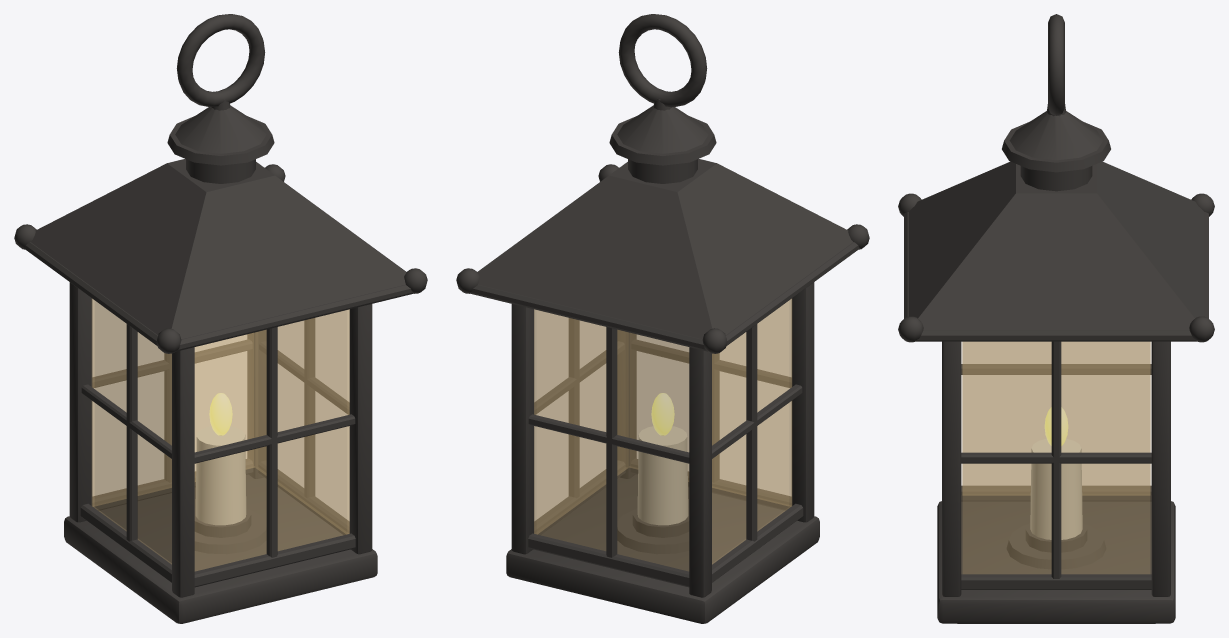
The model's file is iron-lantern_final.glb.
3 views of the same model, side by side, from view 1: azimuth 30°, elevation 25°; view 2: azimuth 150°, elevation 25°; view 3: azimuth 270°, elevation 25° (orthographic). The views are drawn at different scales.
Parts seen in each view (by area): view 1: SM_IronLantern_Roof, SM_IronLantern_Glass, SM_IronLantern_Frame, SM_IronLantern_Base, SM_IronLantern_Candle, SM_IronLantern_Ring, SM_IronLantern_Flame; view 2: SM_IronLantern_Roof, SM_IronLantern_Glass, SM_IronLantern_Frame, SM_IronLantern_Base, SM_IronLantern_Candle, SM_IronLantern_Ring, SM_IronLantern_Flame; view 3: SM_IronLantern_Roof, SM_IronLantern_Glass, SM_IronLantern_Frame, SM_IronLantern_Base, SM_IronLantern_Candle, SM_IronLantern_Ring.
Part boxes in pixels (x1=…): SM_IronLantern_Roof: x1=14, y1=105, x2=427, y2=353; SM_IronLantern_Glass: x1=92, y1=298, x2=349, y2=571; SM_IronLantern_Frame: x1=69, y1=282, x2=372, y2=597; SM_IronLantern_Base: x1=64, y1=474, x2=377, y2=623; SM_IronLantern_Candle: x1=195, y1=426, x2=246, y2=525; SM_IronLantern_Ring: x1=176, y1=14, x2=265, y2=110; SM_IronLantern_Flame: x1=209, y1=393, x2=232, y2=435; SM_IronLantern_Roof: x1=456, y1=105, x2=869, y2=353; SM_IronLantern_Glass: x1=534, y1=298, x2=791, y2=571; SM_IronLantern_Frame: x1=511, y1=282, x2=814, y2=597; SM_IronLantern_Base: x1=506, y1=474, x2=819, y2=623; SM_IronLantern_Candle: x1=637, y1=426, x2=688, y2=525; SM_IronLantern_Ring: x1=618, y1=14, x2=707, y2=110; SM_IronLantern_Flame: x1=651, y1=393, x2=674, y2=435; SM_IronLantern_Roof: x1=898, y1=111, x2=1214, y2=342; SM_IronLantern_Glass: x1=962, y1=341, x2=1150, y2=573; SM_IronLantern_Frame: x1=942, y1=341, x2=1170, y2=596; SM_IronLantern_Base: x1=937, y1=501, x2=1175, y2=623; SM_IronLantern_Candle: x1=1030, y1=438, x2=1082, y2=539; SM_IronLantern_Ring: x1=1046, y1=14, x2=1066, y2=116.
Size of the model in its own units: 0.2649 by 0.522 by 0.266.
